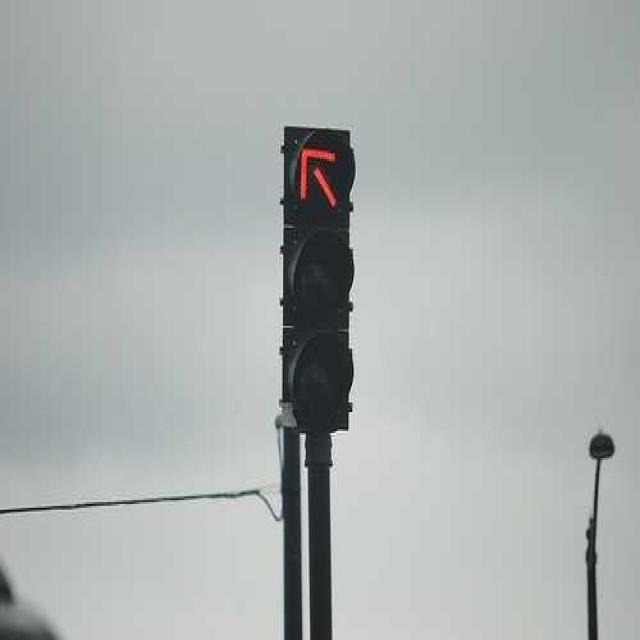Traffic Light -Red-: (257, 119, 370, 441)
